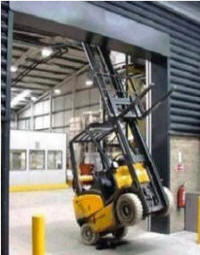unusual: (51, 95, 162, 251)
